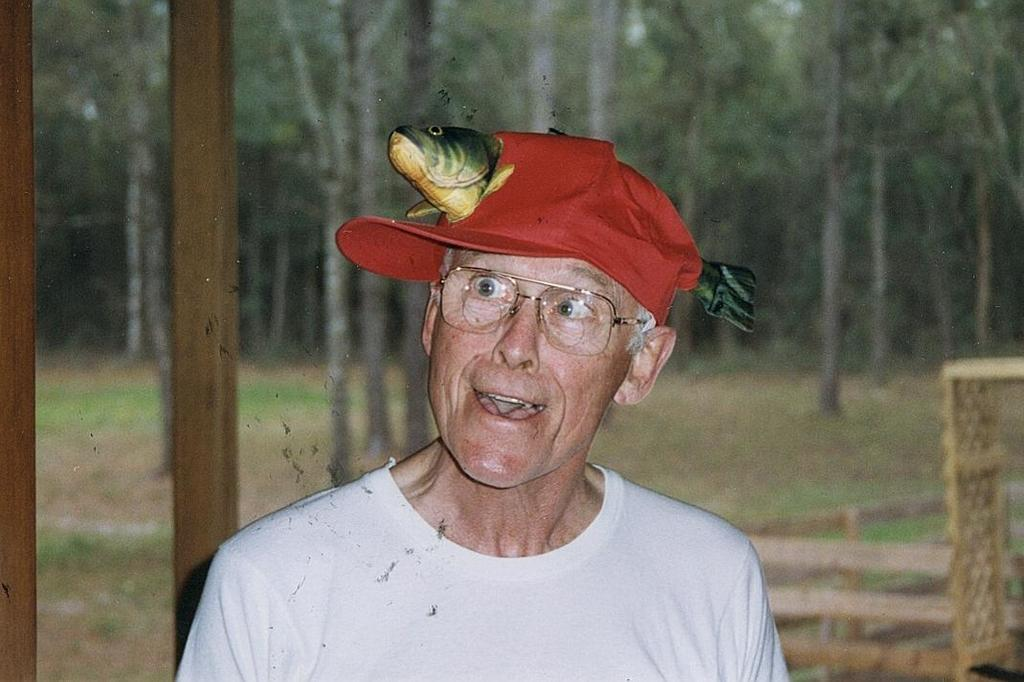Hat: (334, 130, 762, 334)
